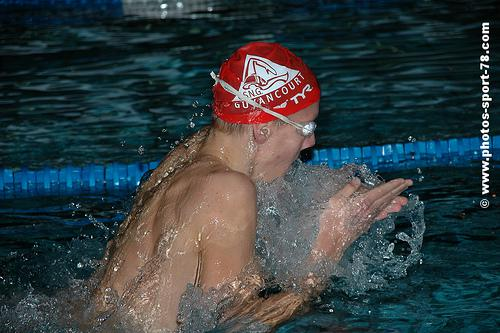swimmer: (82, 41, 411, 330)
